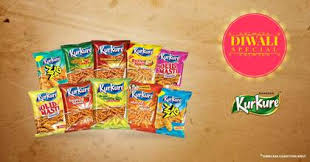kurkure: (234, 91, 284, 118)
plastic: (33, 44, 188, 132)
